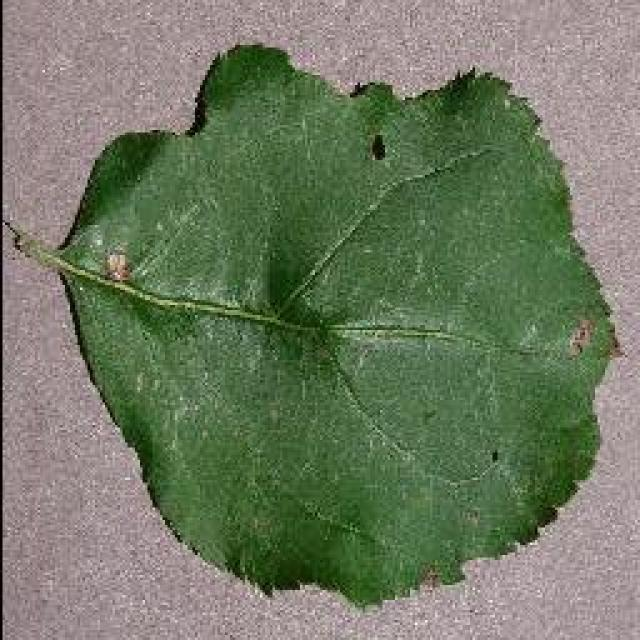apple black rot: (25, 40, 620, 610)
